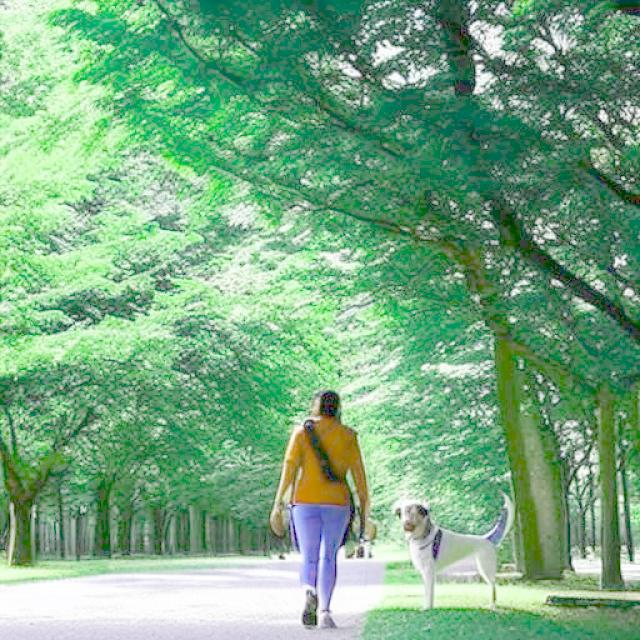Unleashed_Dog: (293, 484, 515, 612)
